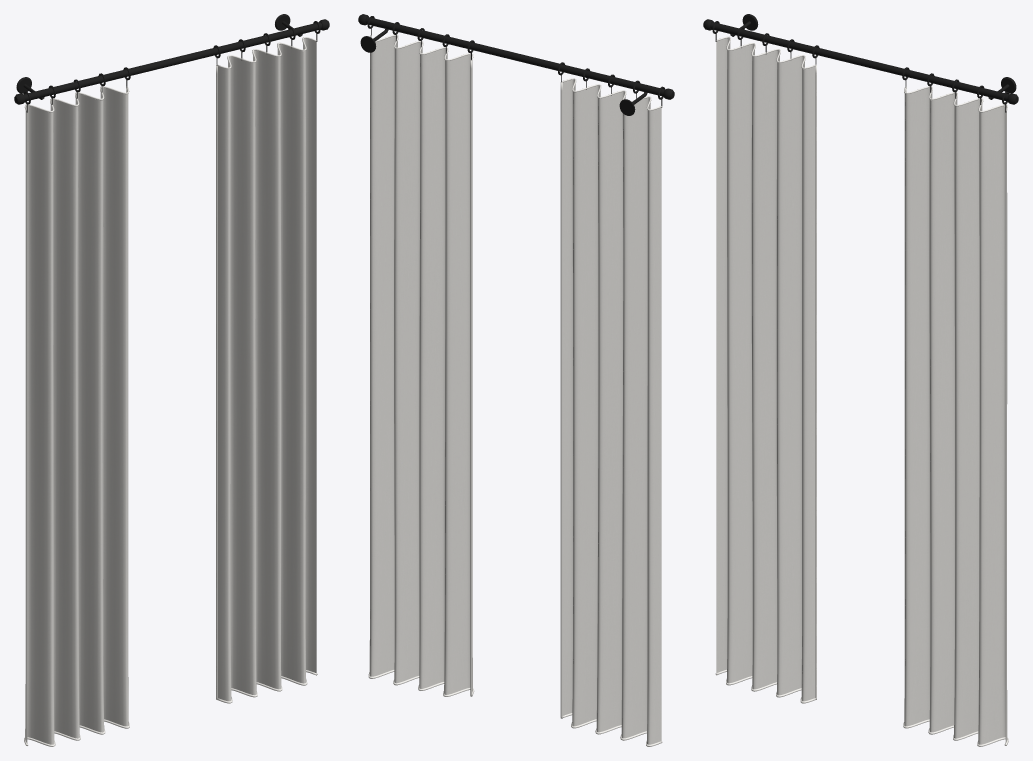
File: cortina_onda_120_c70.glb
3 renders of one model, left to right at view 1: azimuth 30°, elevation 25°; view 2: azimuth 150°, elevation 25°; view 3: azimuth 330°, elevation 25°, orthographic.
Visible parts, largest first — view 1: cortina_onda_120_c70; view 2: cortina_onda_120_c70; view 3: cortina_onda_120_c70.
Part boxes in pixels (x1,y1,x2,y2): cortina_onda_120_c70: (14,14,329,746); cortina_onda_120_c70: (358,14,674,746); cortina_onda_120_c70: (703,14,1018,746).
Bounding box in the file's own units: 1.2 × 2.39 × 0.1783.
2 materials, 1 textured.
